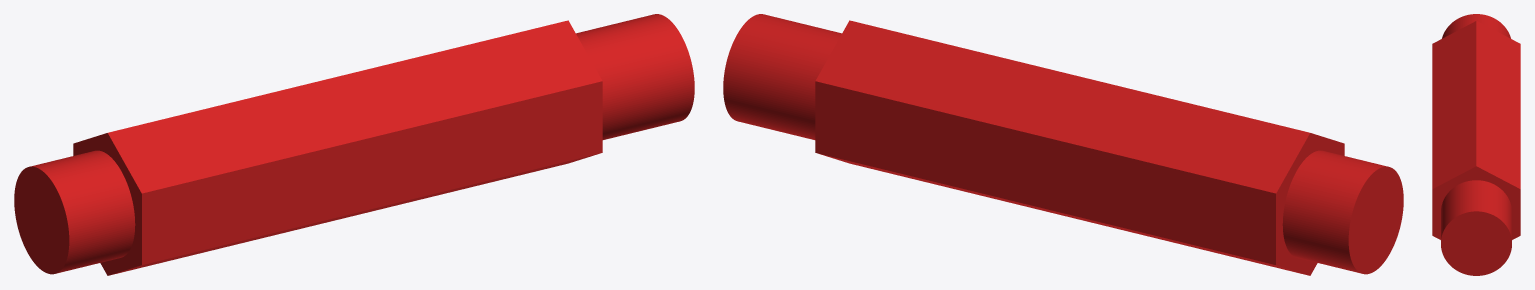
The model's file is 3_colored.obj.
3 renders of one model, left to right at view 1: azimuth 30°, elevation 25°; view 2: azimuth 150°, elevation 25°; view 3: azimuth 270°, elevation 25°, orthographic. The views are drawn at different scales.
Bounding box in the file's own units: 0.095 × 0.0208 × 0.018.
